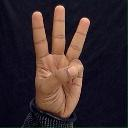hand: (31, 4, 90, 119)
